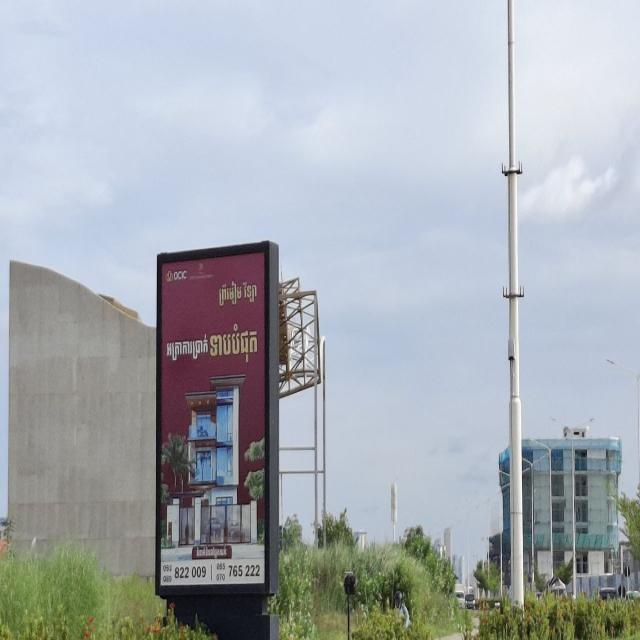1: (214, 274, 260, 311)
Yolov11_80vkh: (208, 316, 262, 371), (163, 332, 210, 364)
